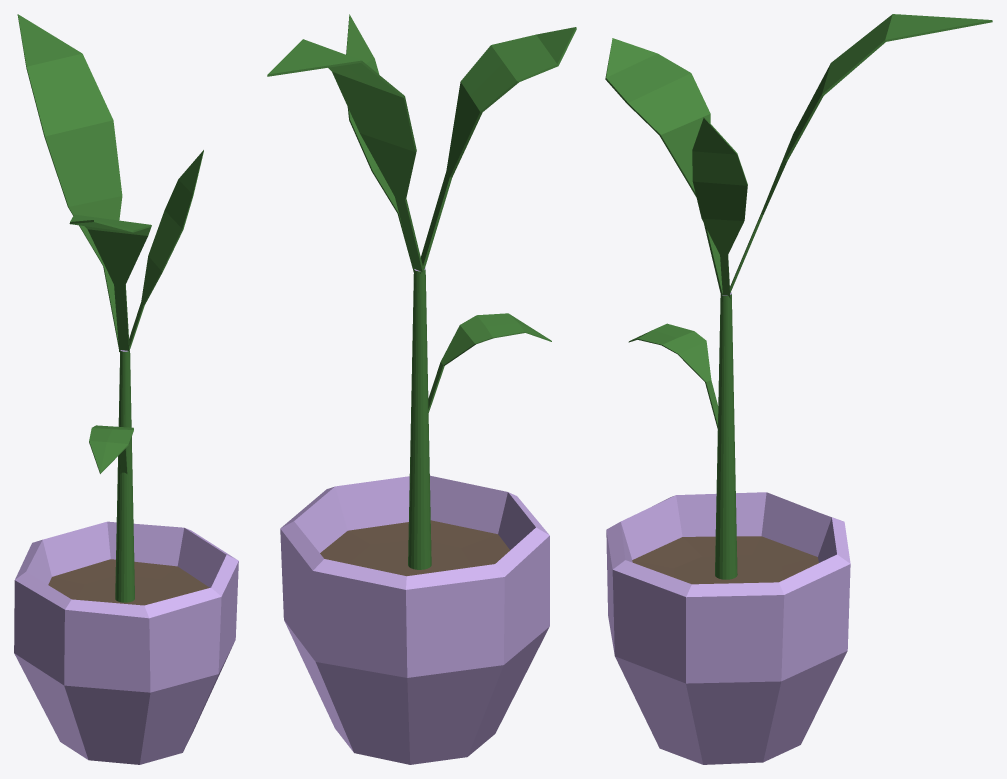
File: Flower_49.fbx
3 views of the same model, side by side, from view 1: azimuth 30°, elevation 25°; view 2: azimuth 150°, elevation 25°; view 3: azimuth 270°, elevation 25° (orthographic). The views are drawn at different scales.
Parts seen in each view (by area): view 1: Flower_49; view 2: Flower_49; view 3: Flower_49.
Part boxes in pixels (left/top/right/bottom): Flower_49: left=14, top=14, right=238, bottom=764; Flower_49: left=267, top=14, right=576, bottom=764; Flower_49: left=605, top=14, right=992, bottom=764.
Size of the model in its own units: 66.1 by 105 by 215.
